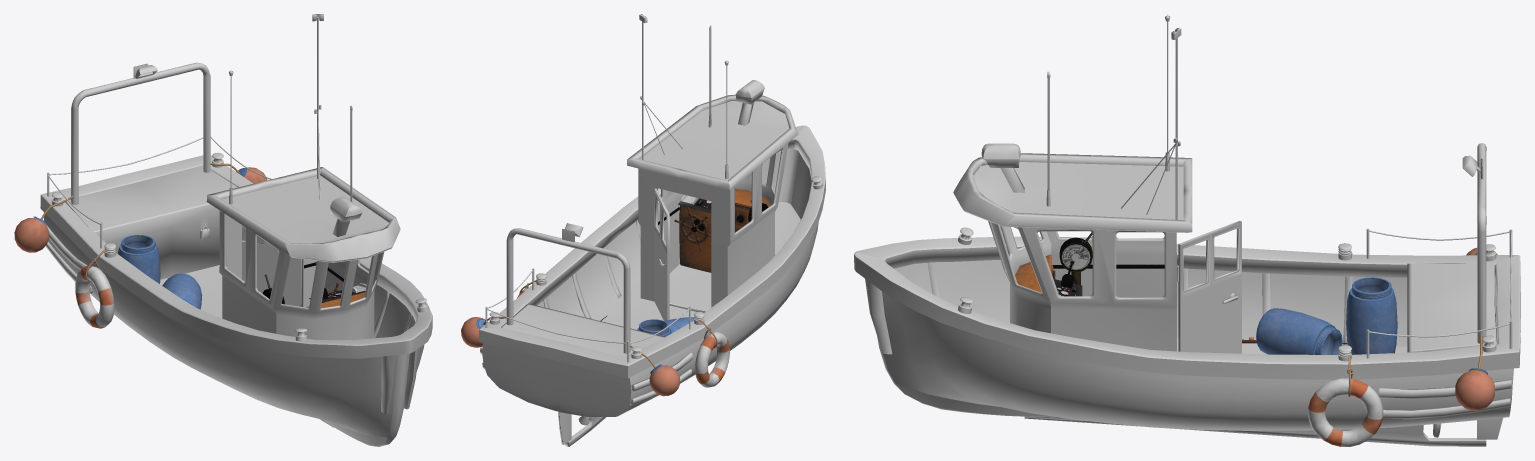
Rendered from FishingBoat.fbx.
The picture shows the model from 3 angles, left to right: view 1: azimuth 30°, elevation 25°; view 2: azimuth 150°, elevation 25°; view 3: azimuth 270°, elevation 25°; orthographic projection. The views are drawn at different scales.
Visible parts, largest first — view 1: Sketchfab_Boat_Interior_0; view 2: Sketchfab_Boat_Interior_0; view 3: Sketchfab_Boat_Interior_0.
Part boxes in pixels (x1,y1,x2,y2): Sketchfab_Boat_Interior_0: (14, 14, 432, 446); Sketchfab_Boat_Interior_0: (461, 14, 825, 446); Sketchfab_Boat_Interior_0: (854, 14, 1520, 446).
Bounding box in the file's own units: 422 × 619 × 848.
